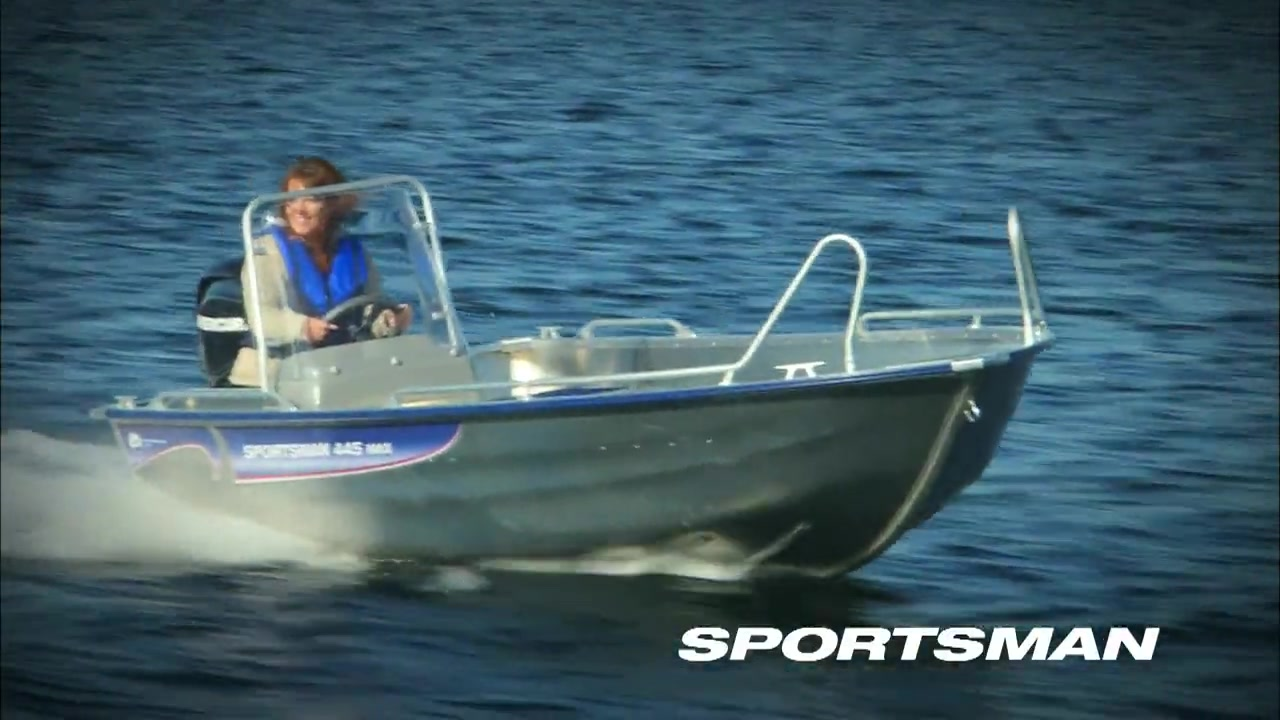boat: (81, 174, 1056, 597)
